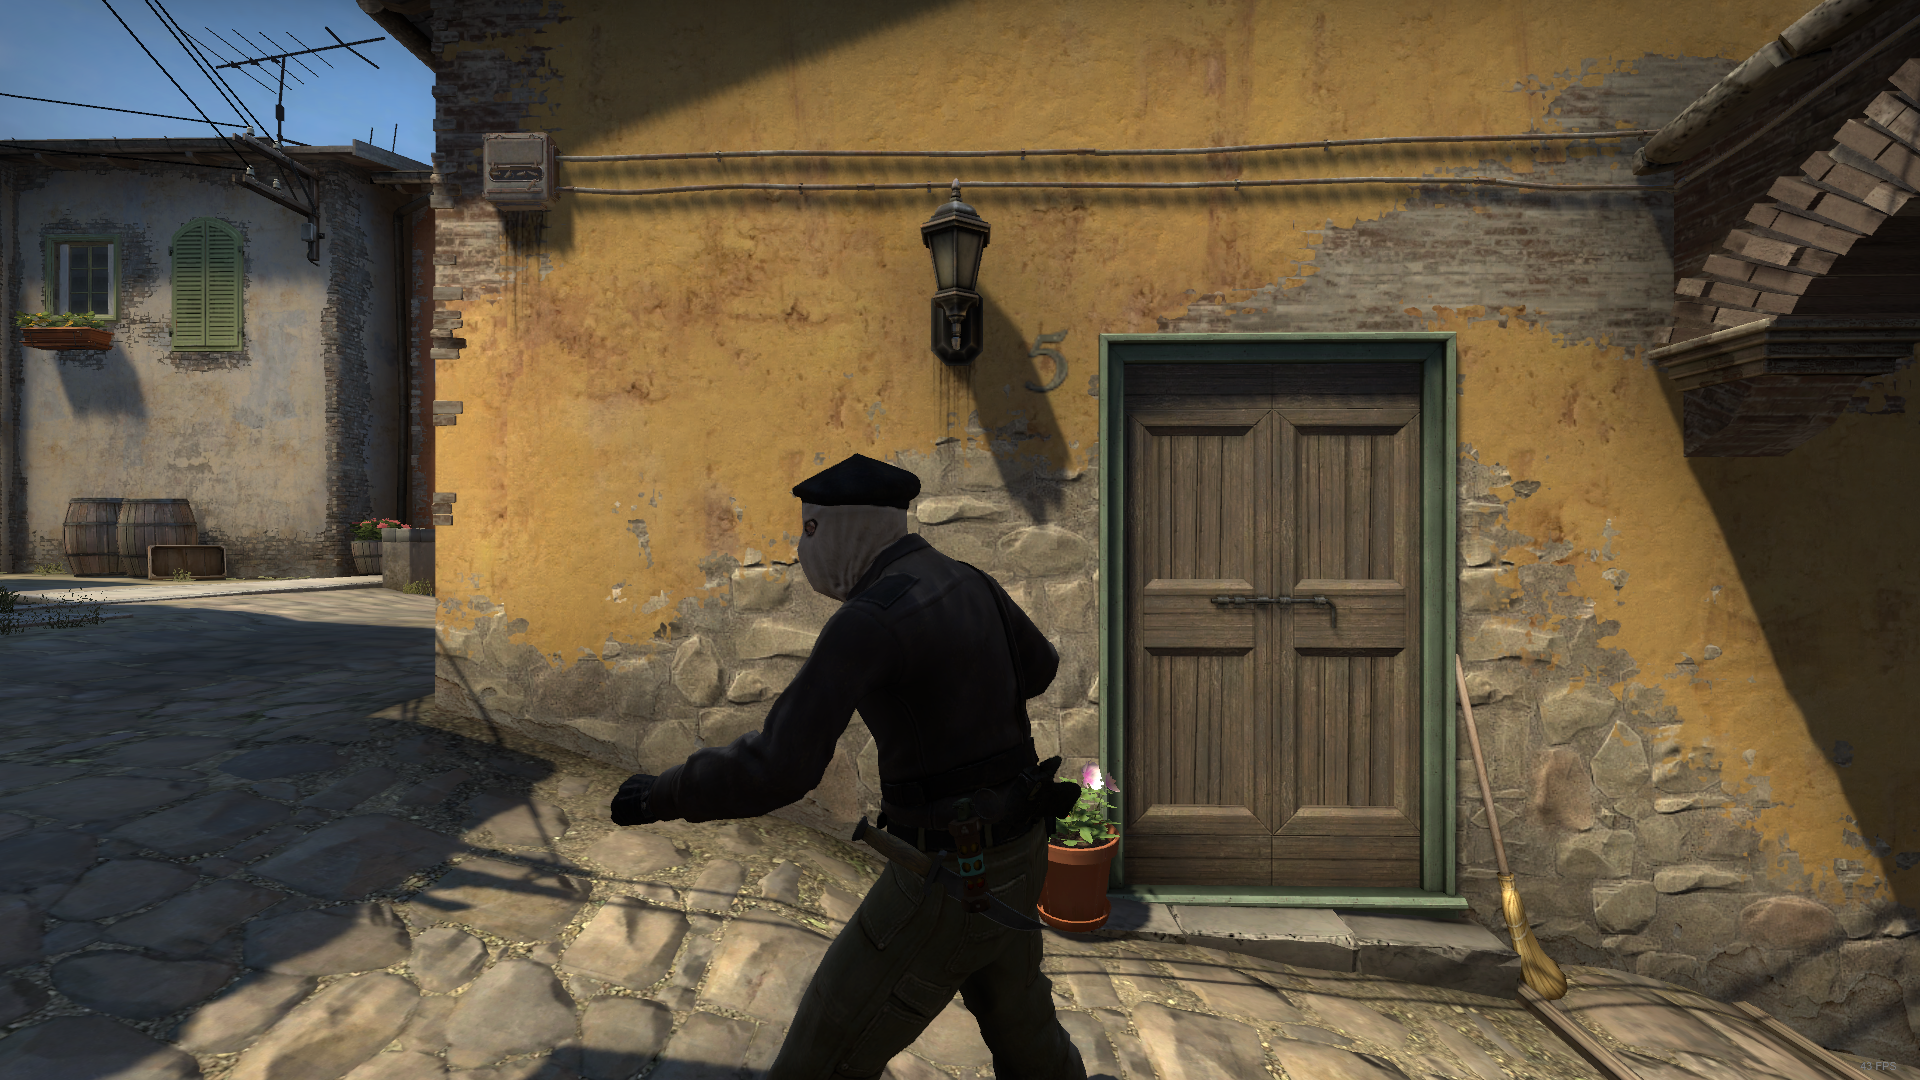t: (616, 455, 1087, 1080)
